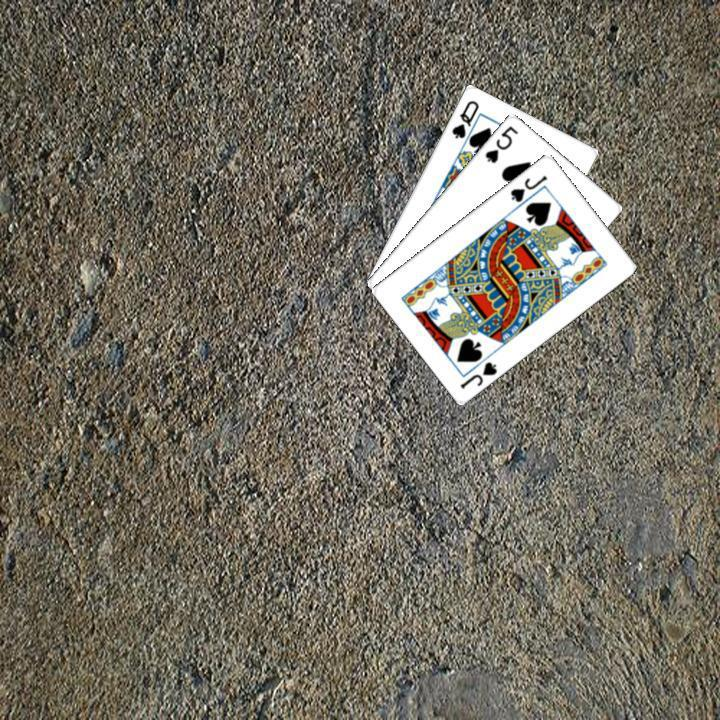5: (480, 121, 520, 165)
J: (506, 170, 549, 204), (456, 357, 499, 391)
Q: (447, 95, 481, 140)
